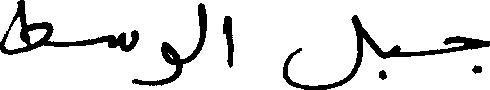X: (283, 10, 361, 89), (0, 0, 51, 59), (445, 31, 489, 78), (109, 25, 136, 88), (162, 37, 179, 89), (384, 40, 400, 83), (224, 11, 233, 72), (198, 0, 206, 58)
